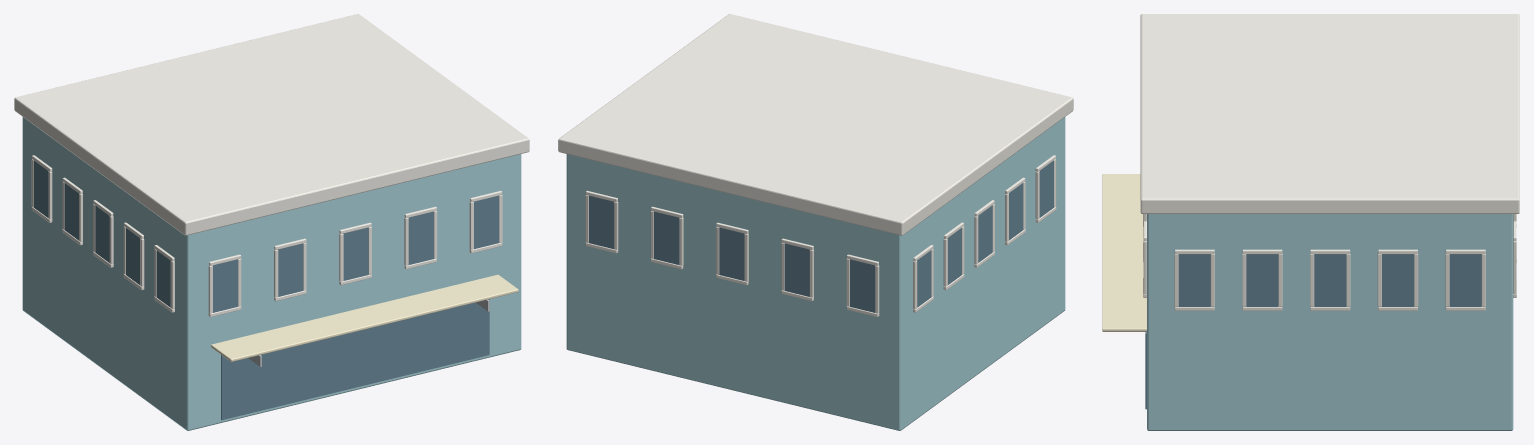
File: bldg_teal_loft.glb
3 views of the same model, side by side, from view 1: azimuth 30°, elevation 25°; view 2: azimuth 150°, elevation 25°; view 3: azimuth 270°, elevation 25° (orthographic). The views are drawn at different scales.
Visible parts, largest first — view 1: bldg_teal_loft_parapet, bldg_teal_loft_body, bldg_teal_loft_shopfront, bldg_teal_loft_awning, bldg_teal_loft_upper_back_2_glass, bldg_teal_loft_upper_back_1_glass, bldg_teal_loft_upper_back_3_glass, bldg_teal_loft_upper_back_4_glass, bldg_teal_loft_upper_back_0_glass, bldg_teal_loft_upper_right_2_glass, bldg_teal_loft_upper_right_0_glass, bldg_teal_loft_upper_right_4_glass (+2 smaller); view 2: bldg_teal_loft_body, bldg_teal_loft_parapet, bldg_teal_loft_upper_front_2_glass, bldg_teal_loft_upper_front_1_glass, bldg_teal_loft_upper_front_3_glass, bldg_teal_loft_upper_front_4_glass, bldg_teal_loft_upper_front_0_glass, bldg_teal_loft_upper_right_2_glass, bldg_teal_loft_upper_right_0_glass, bldg_teal_loft_upper_right_4_glass, bldg_teal_loft_upper_right_1_glass, bldg_teal_loft_upper_right_3_glass; view 3: bldg_teal_loft_parapet, bldg_teal_loft_body, bldg_teal_loft_awning, bldg_teal_loft_upper_left_0_glass, bldg_teal_loft_upper_left_1_glass, bldg_teal_loft_upper_left_2_glass, bldg_teal_loft_upper_left_4_glass, bldg_teal_loft_upper_left_3_glass.
Part boxes in pixels (x1,y1,x2,y2): bldg_teal_loft_parapet: [14, 14, 529, 235]; bldg_teal_loft_body: [22, 117, 521, 430]; bldg_teal_loft_shopfront: [221, 299, 489, 420]; bldg_teal_loft_awning: [211, 274, 518, 361]; bldg_teal_loft_upper_back_2_glass: [343, 227, 368, 280]; bldg_teal_loft_upper_back_1_glass: [278, 243, 303, 296]; bldg_teal_loft_upper_back_3_glass: [408, 211, 433, 264]; bldg_teal_loft_upper_back_4_glass: [474, 196, 498, 249]; bldg_teal_loft_upper_back_0_glass: [213, 259, 237, 312]; bldg_teal_loft_upper_right_2_glass: [95, 205, 109, 262]; bldg_teal_loft_upper_right_0_glass: [156, 250, 170, 307]; bldg_teal_loft_upper_right_4_glass: [34, 160, 48, 217]; bldg_teal_loft_body: [566, 117, 1065, 430]; bldg_teal_loft_parapet: [558, 14, 1073, 235]; bldg_teal_loft_upper_front_2_glass: [719, 227, 744, 280]; bldg_teal_loft_upper_front_1_glass: [784, 243, 809, 296]; bldg_teal_loft_upper_front_3_glass: [654, 211, 679, 264]; bldg_teal_loft_upper_front_4_glass: [589, 196, 613, 249]; bldg_teal_loft_upper_front_0_glass: [850, 259, 874, 312]; bldg_teal_loft_upper_right_2_glass: [978, 205, 992, 262]; bldg_teal_loft_upper_right_0_glass: [1039, 160, 1053, 217]; bldg_teal_loft_upper_right_4_glass: [917, 250, 931, 307]; bldg_teal_loft_upper_right_1_glass: [1009, 183, 1023, 240]; bldg_teal_loft_upper_right_3_glass: [947, 228, 961, 284]; bldg_teal_loft_parapet: [1140, 14, 1519, 213]; bldg_teal_loft_body: [1147, 214, 1513, 430]; bldg_teal_loft_awning: [1102, 174, 1146, 331]; bldg_teal_loft_upper_left_0_glass: [1178, 254, 1210, 306]; bldg_teal_loft_upper_left_1_glass: [1246, 254, 1278, 306]; bldg_teal_loft_upper_left_2_glass: [1314, 254, 1346, 306]; bldg_teal_loft_upper_left_4_glass: [1449, 254, 1481, 306]; bldg_teal_loft_upper_left_3_glass: [1382, 254, 1413, 306].
Size of the model in its own units: 14.42 by 8.49 by 13.68.
